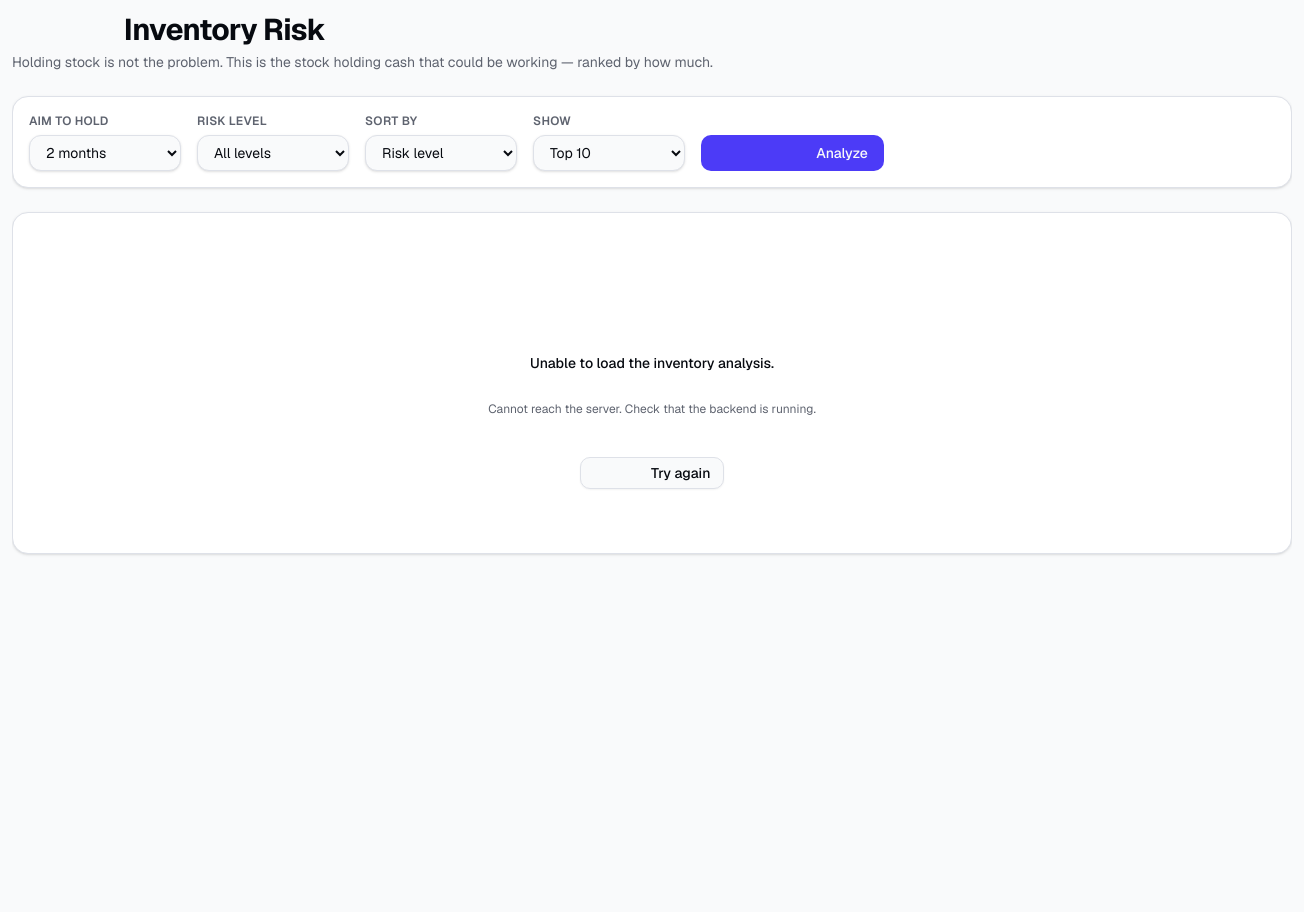
Test: error › offers a retry that re-requests the report
Expected: the text "Unable to load the inventory analysis." is shown, [530, 353, 774, 373]
# Second attempt succeeds.
Click the button "Try again" at (652, 473), box [580, 457, 724, 489]
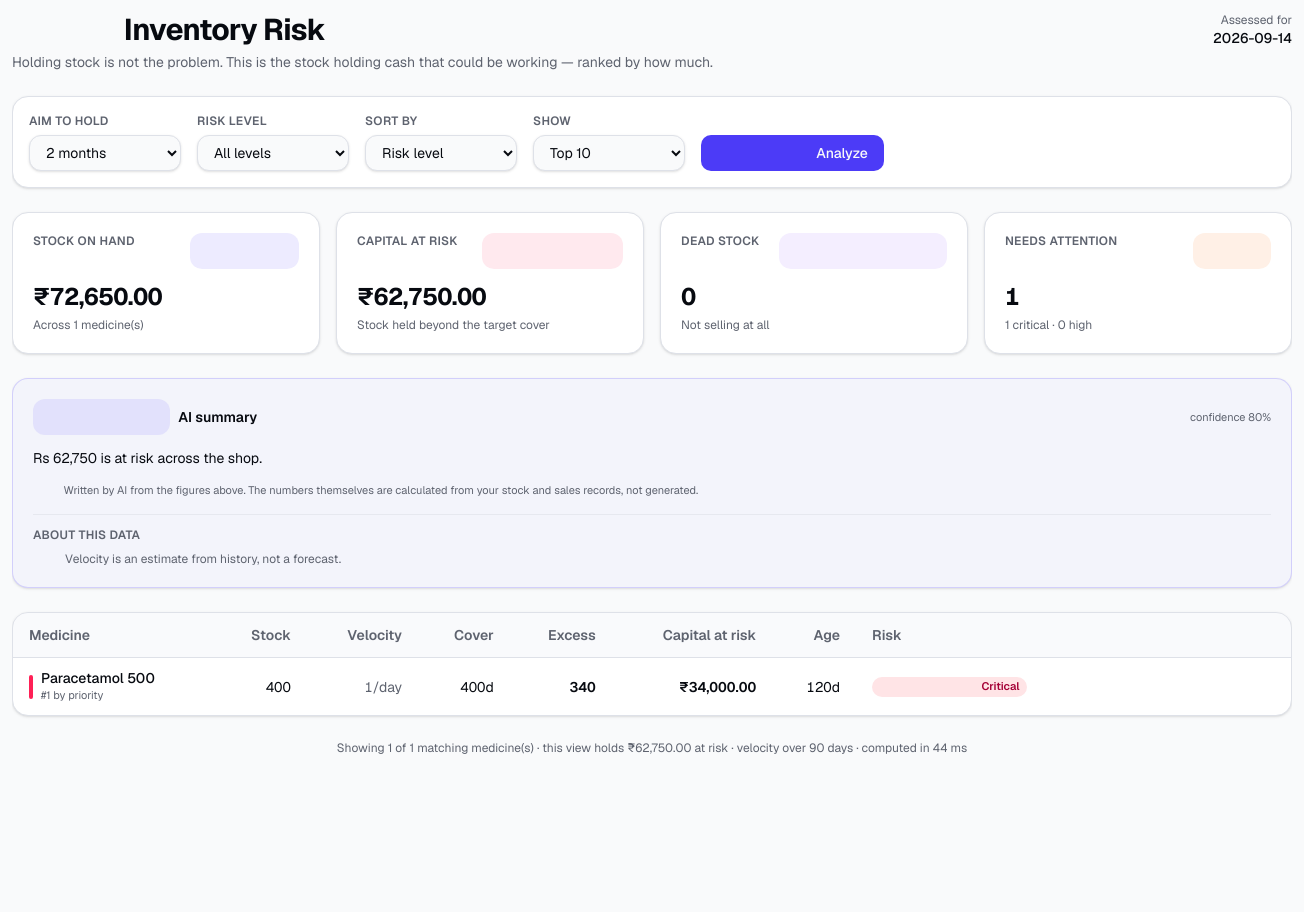
Expected: the table is shown, [13, 613, 1291, 716]
